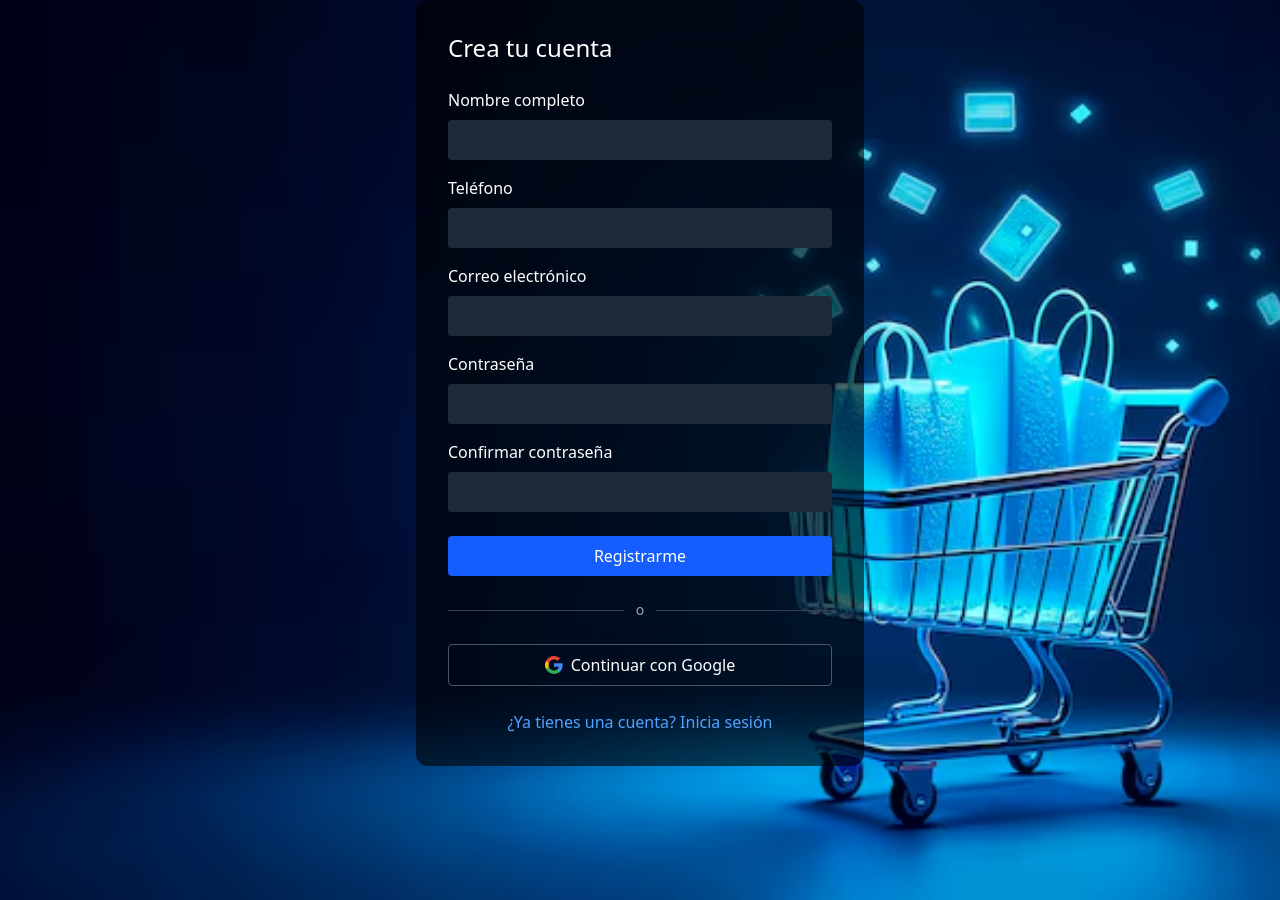
Test: SignupPage › sends name and phone with the sign-up
Type "Ana López" into the field labelled "Nombre completo" at (640, 140), box x1=448 y1=120 x2=832 y2=160
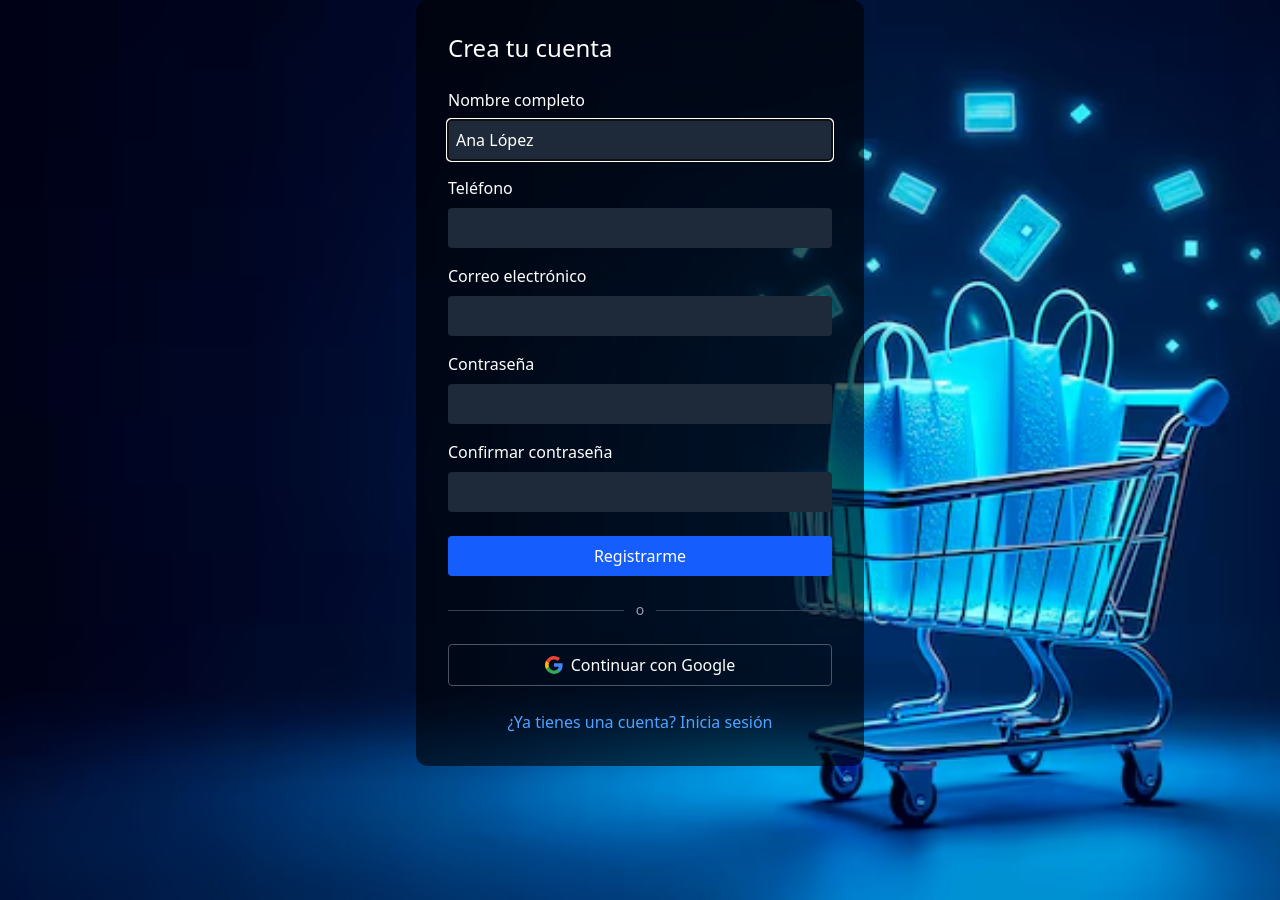
Type "5551234567" into the field labelled "Teléfono" at (640, 228), box x1=448 y1=208 x2=832 y2=248
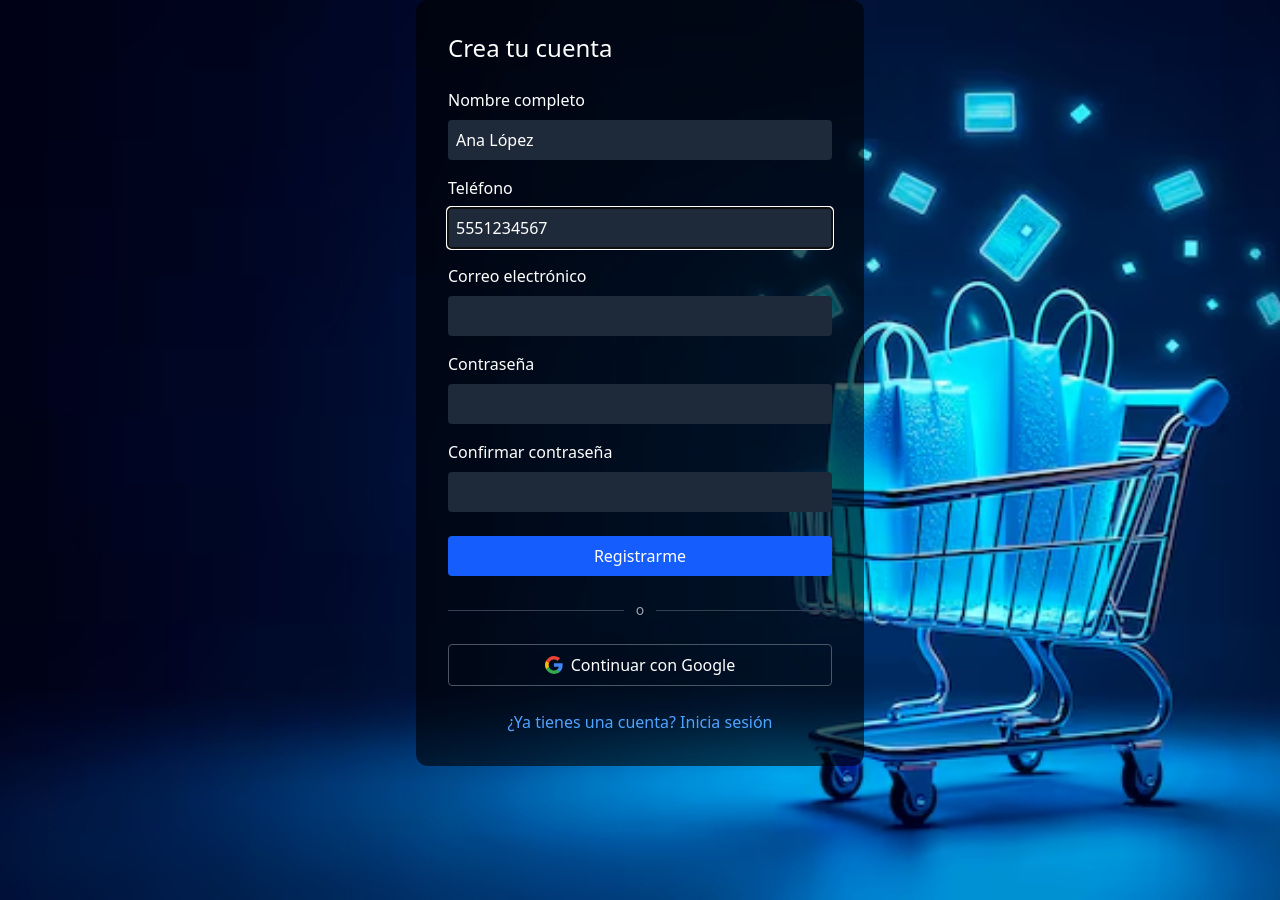
Type "ana@example.com" into the field labelled "Correo electrónico" at (640, 316), box x1=448 y1=296 x2=832 y2=336
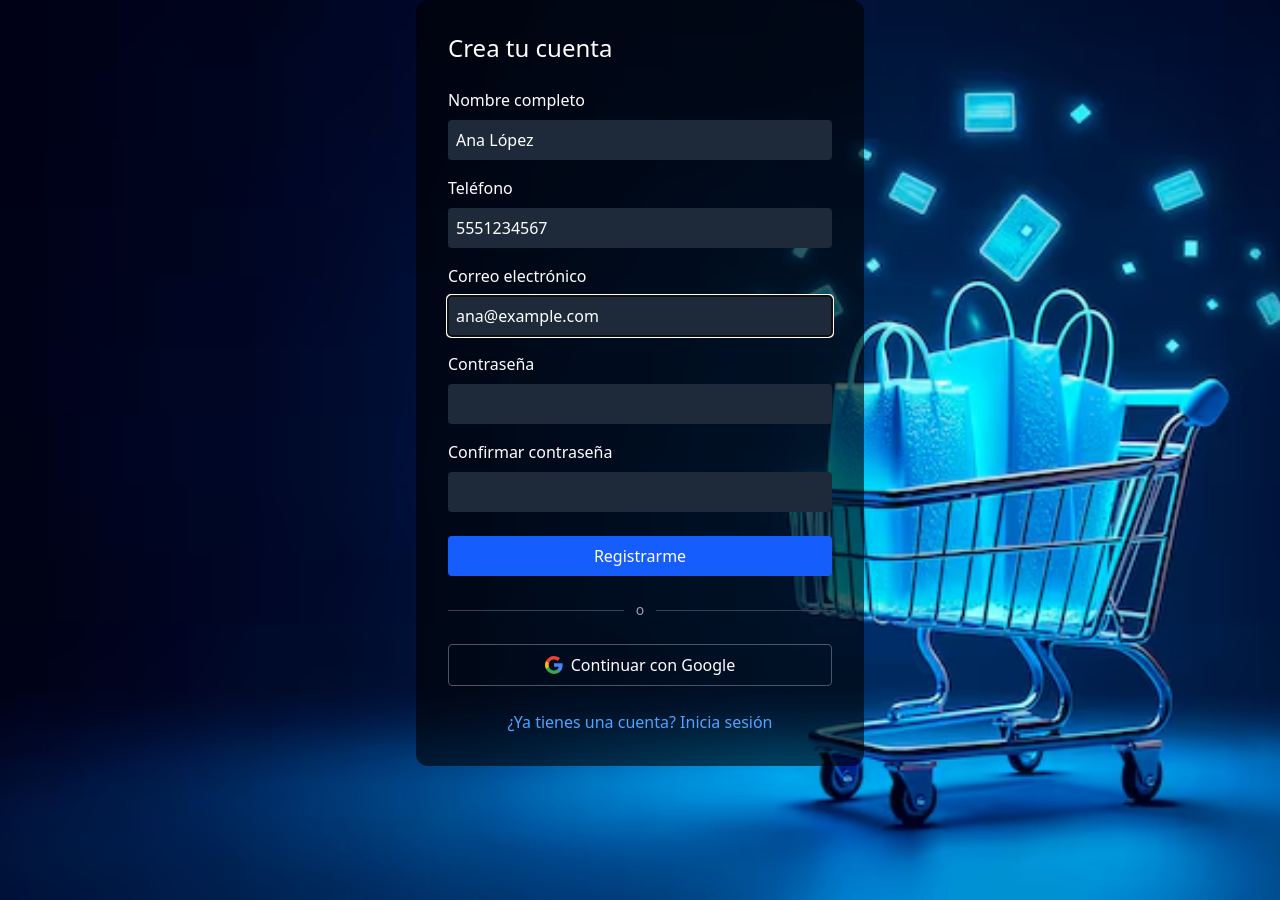
Type "Password123!" into the password field labelled "Contraseña" at (640, 404), box x1=448 y1=384 x2=832 y2=424
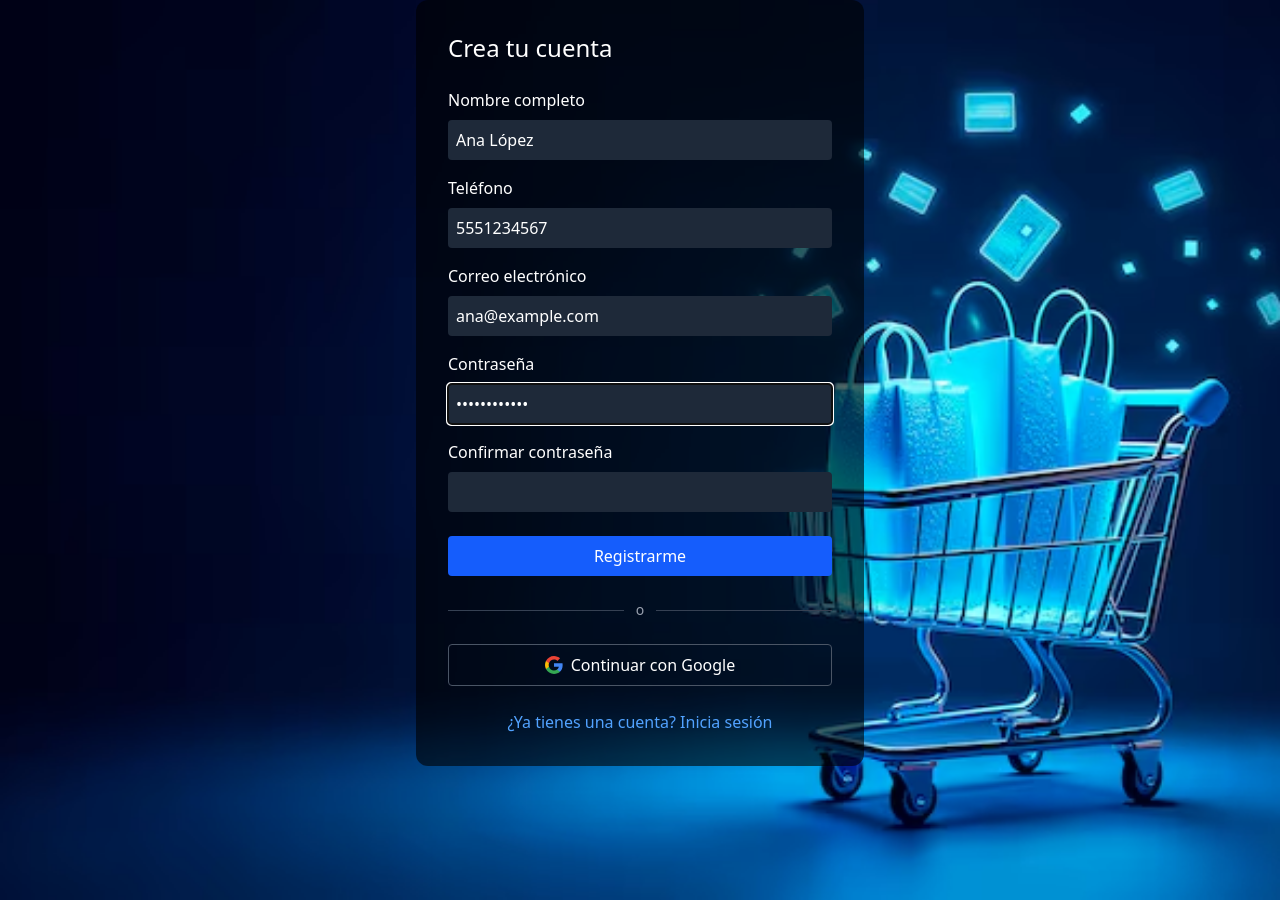
Type "Password123!" into the password field labelled "Confirmar contraseña" at (640, 492), box x1=448 y1=472 x2=832 y2=512
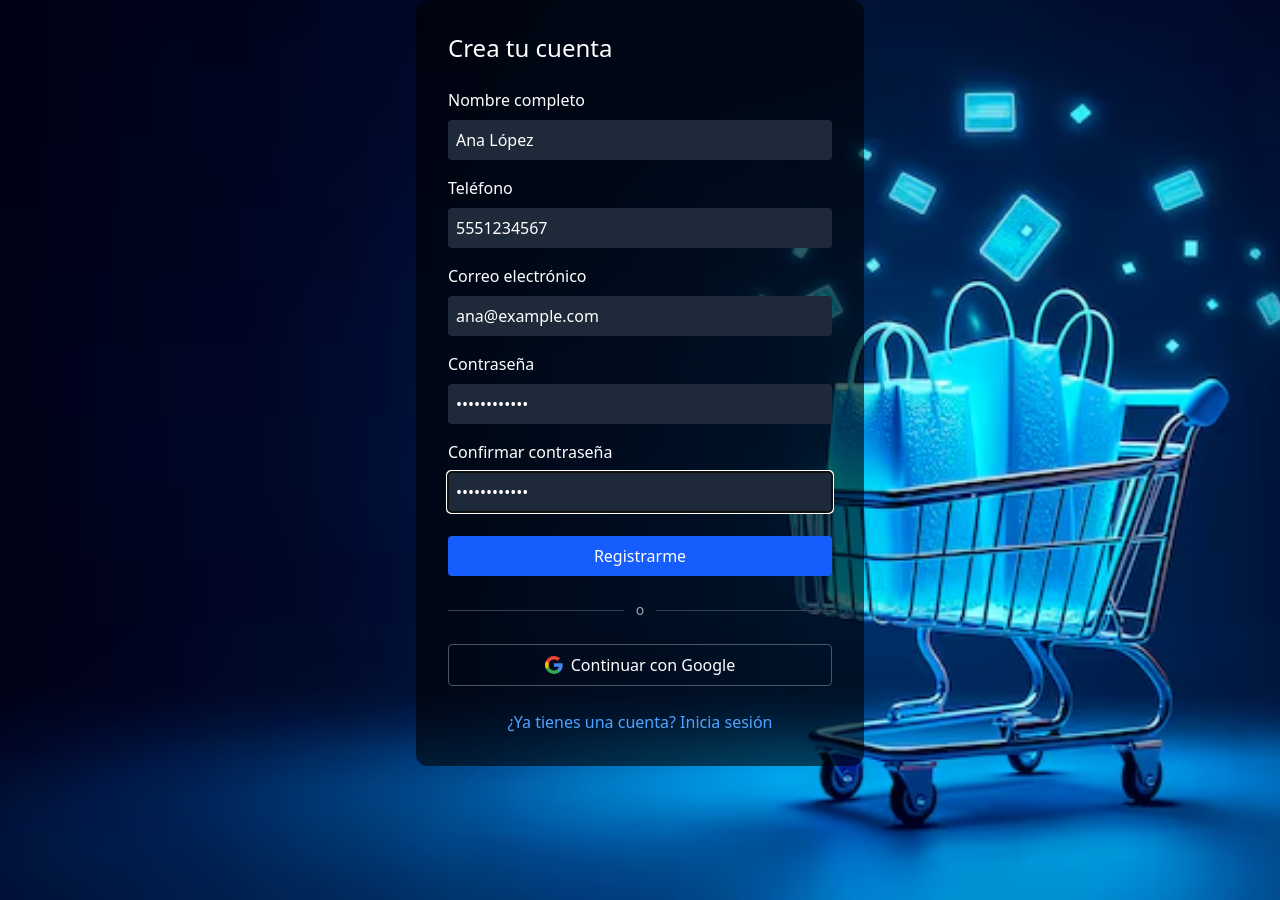
Click the button "Registrarme" at (640, 556), box x1=448 y1=536 x2=832 y2=576
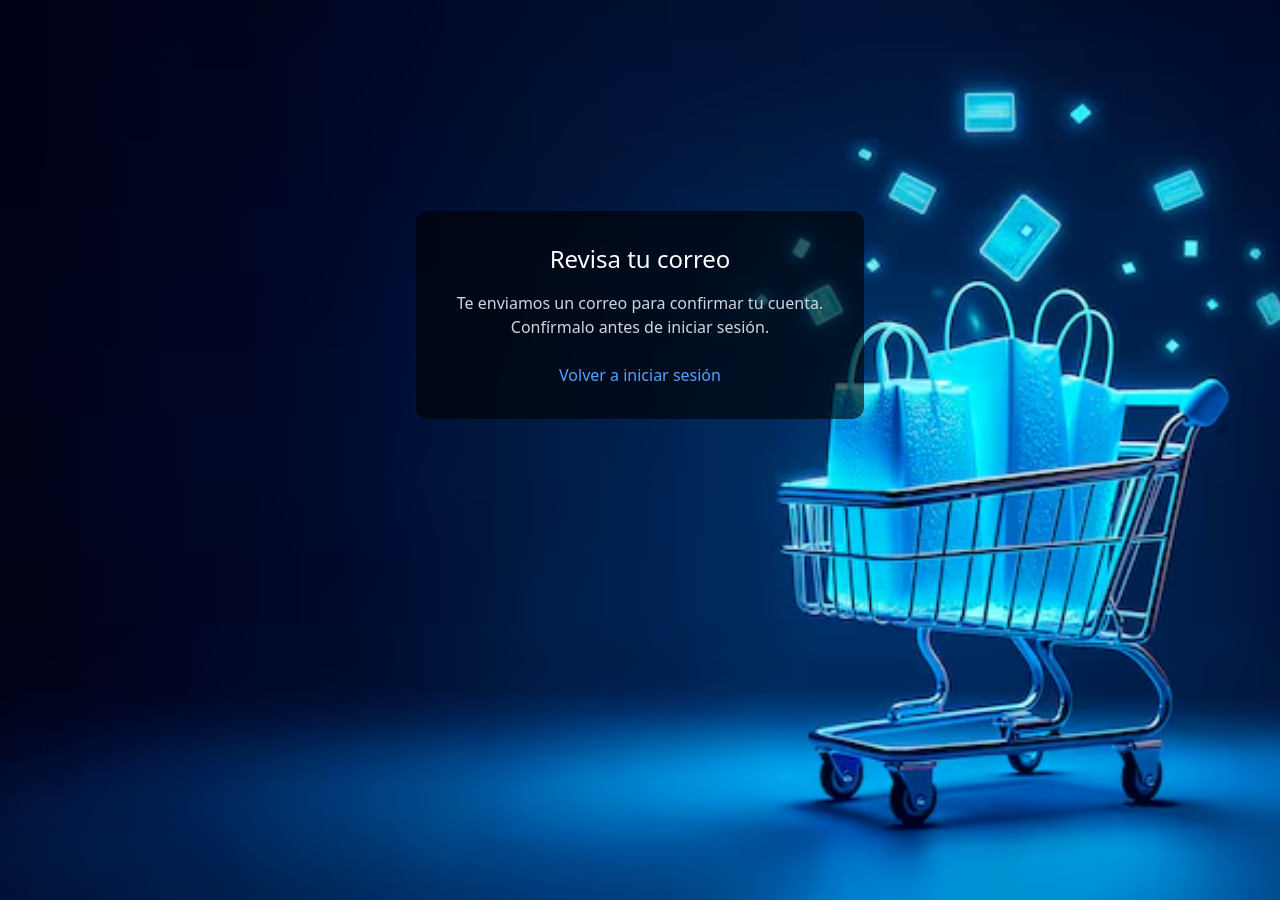
Expected: the heading "Revisa tu correo" is shown, x1=550 y1=242 x2=730 y2=275
